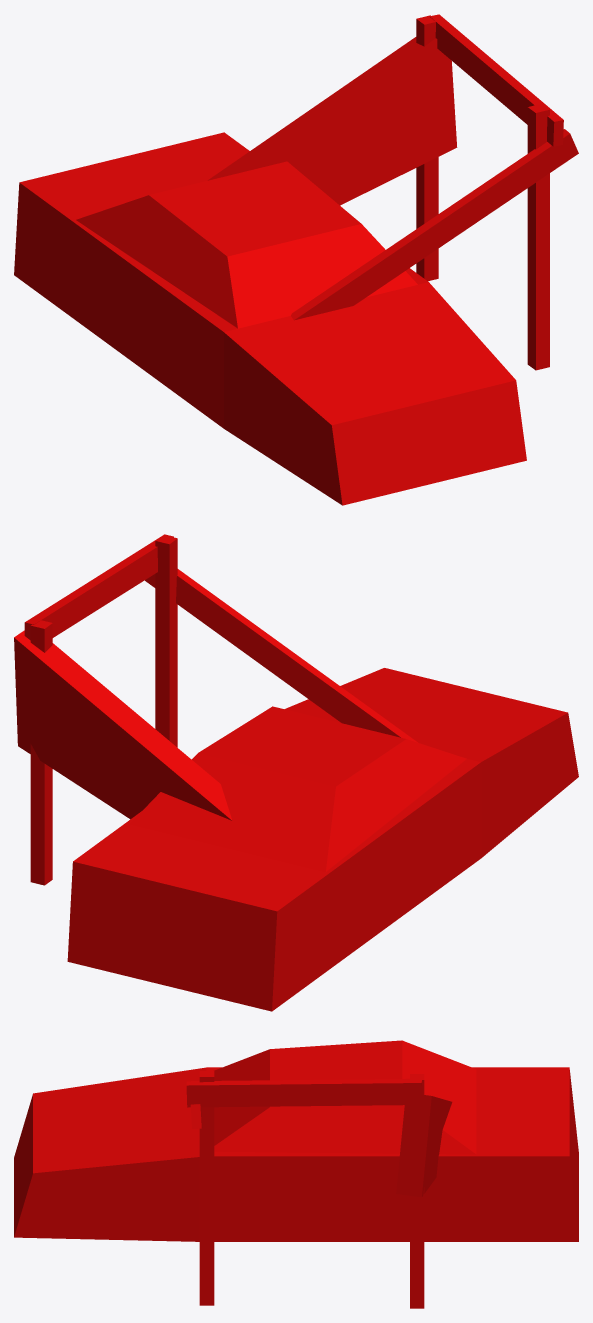
The model's file is SM_Bld_Junk_Shelter_04_Collision.fbx.
The picture shows the model from 3 angles, top to bottom: view 1: azimuth 30°, elevation 25°; view 2: azimuth 150°, elevation 25°; view 3: azimuth 270°, elevation 25°; orthographic projection. The views are drawn at different scales.
Parts seen in each view (by area): view 1: SM_Bld_Junk_Shelter_04_Collision; view 2: SM_Bld_Junk_Shelter_04_Collision; view 3: SM_Bld_Junk_Shelter_04_Collision.
Part boxes in pixels (x1,y1,x2,y2): SM_Bld_Junk_Shelter_04_Collision: (14, 14, 578, 505); SM_Bld_Junk_Shelter_04_Collision: (14, 534, 578, 1011); SM_Bld_Junk_Shelter_04_Collision: (14, 1040, 578, 1308).
Bounding box in the file's own units: 323 × 230 × 514.
